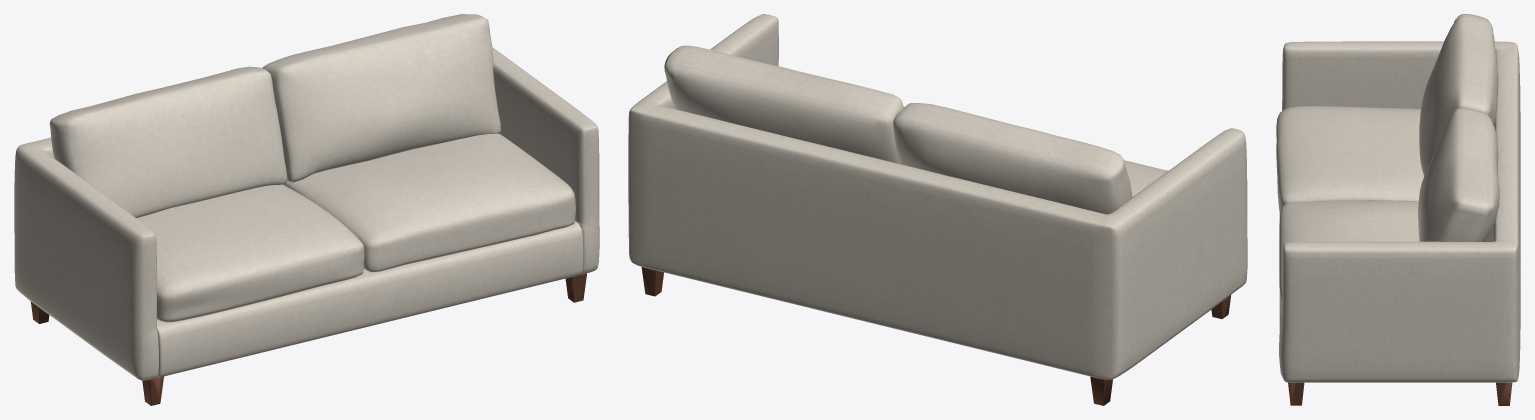
The picture shows the model from 3 angles, left to right: view 1: azimuth 30°, elevation 25°; view 2: azimuth 150°, elevation 25°; view 3: azimuth 270°, elevation 25°; orthographic projection. The views are drawn at different scales.
Visible parts, largest first — view 1: RootNode; view 2: RootNode; view 3: RootNode.
Boxes of the visible parts, box(x1,y1,x2,y2) form: RootNode: box(14, 14, 599, 405); RootNode: box(628, 14, 1247, 405); RootNode: box(1276, 14, 1520, 405).
Size of the model in its own units: 1.98 by 0.889 by 0.9652.
1 material, 1 textured.
